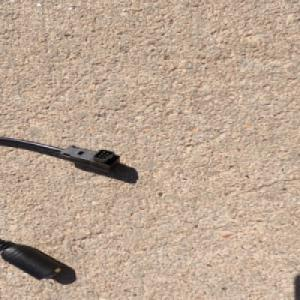Wire: (0, 135, 122, 282)
